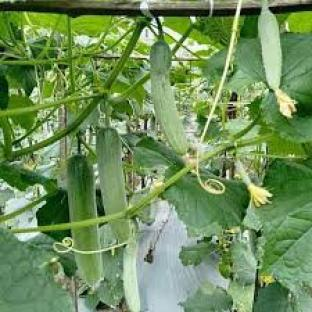Cucumber: (150, 41, 188, 155), (96, 128, 127, 214), (258, 2, 282, 90), (67, 156, 97, 221), (124, 236, 140, 311)
